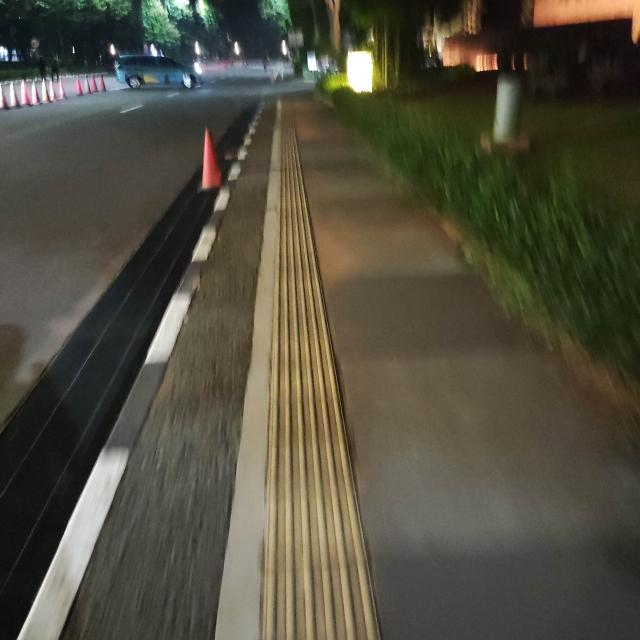lurus: (245, 149, 380, 640)
